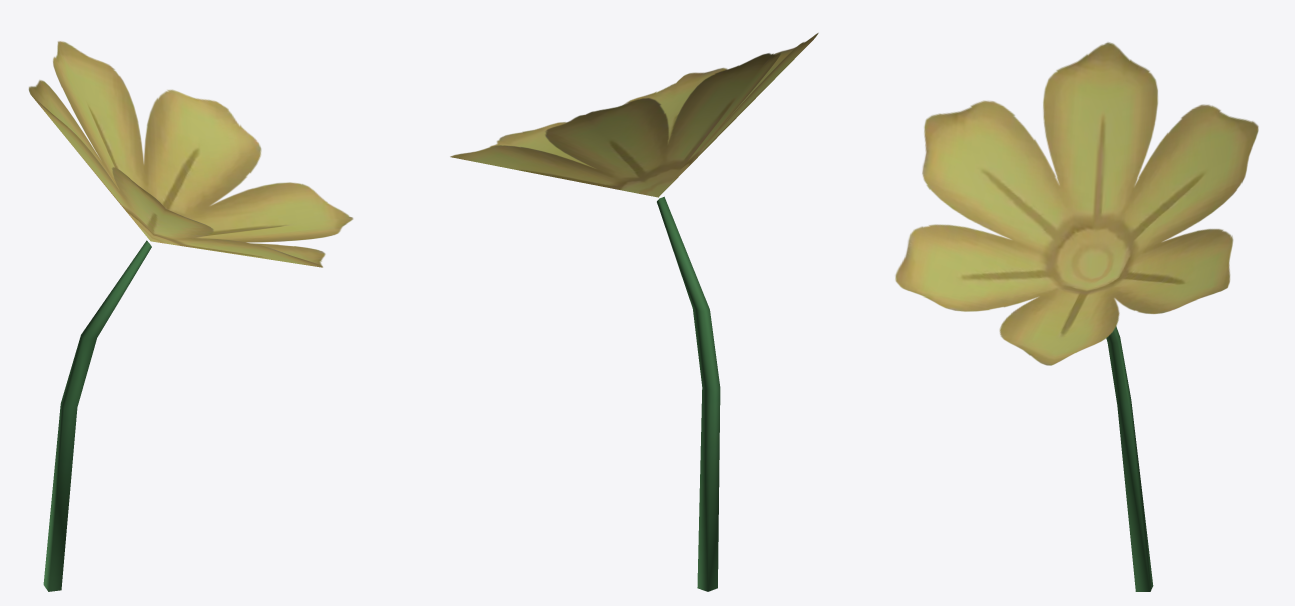
Rendered from Flower_2.glb.
The picture shows the model from 3 angles, left to right: view 1: azimuth 30°, elevation 25°; view 2: azimuth 150°, elevation 25°; view 3: azimuth 270°, elevation 25°; orthographic projection. The views are drawn at different scales.
Visible parts, largest first — view 1: Flower_2; view 2: Flower_2; view 3: Flower_2.
Part boxes in pixels (x1,y1,x2,y2): Flower_2: (28,41,353,591); Flower_2: (450,33,818,591); Flower_2: (895,42,1258,591).
Bounding box in the file's own units: 0.239 × 0.3613 × 0.2474.
Materials: 1 (1 with a texture image).
